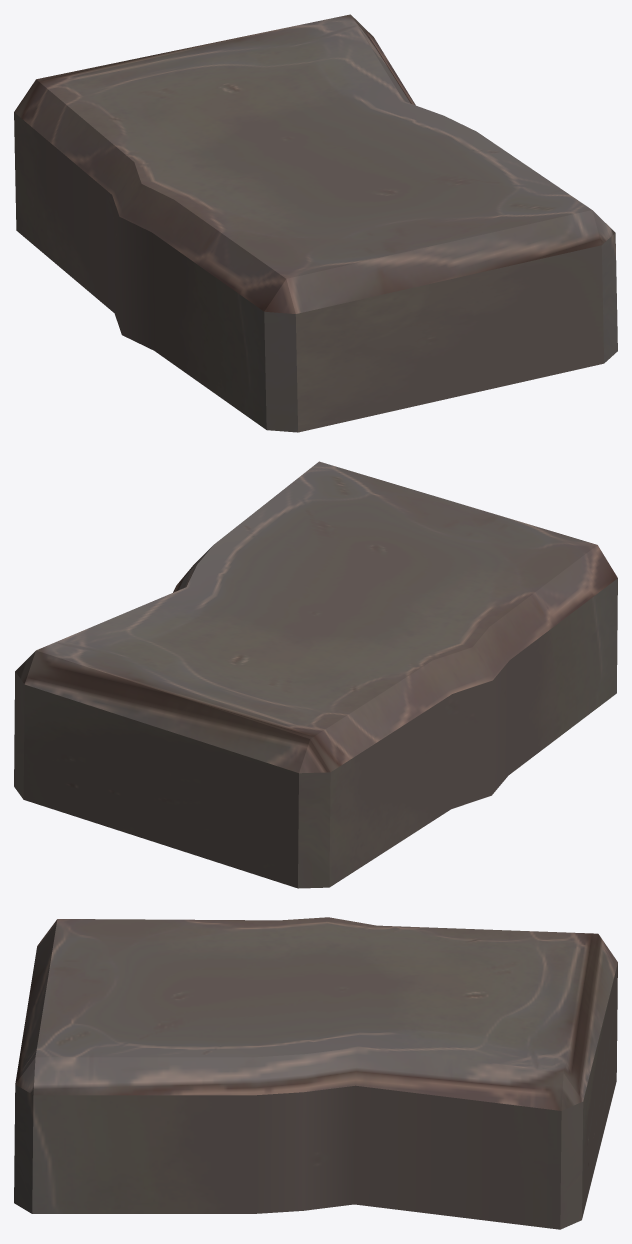
The model's file is BrickSmallSingle.fbx.
3 renders of one model, top to bottom at view 1: azimuth 30°, elevation 25°; view 2: azimuth 150°, elevation 25°; view 3: azimuth 270°, elevation 25°, orthographic.
Visible parts, largest first — view 1: pCube85; view 2: pCube85; view 3: pCube85.
Boxes of the visible parts, box(x1,y1,x2,y2) form: pCube85: box(14, 14, 617, 432); pCube85: box(14, 461, 617, 888); pCube85: box(14, 917, 617, 1229).
Bounding box in the file's own units: 34.11 × 13.64 × 48.1.
